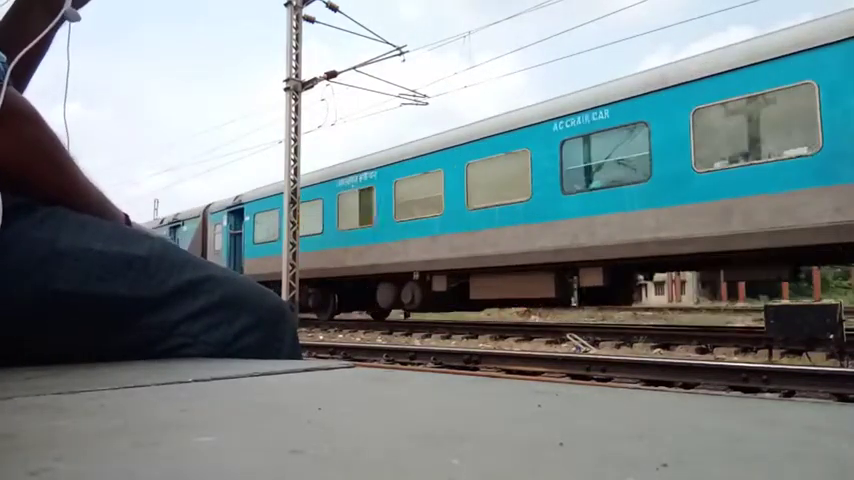Car Type: (542, 105, 621, 132)
